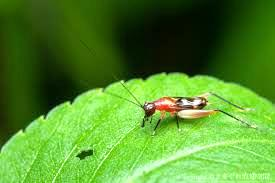Helopeltis-insect: (136, 89, 214, 124)
